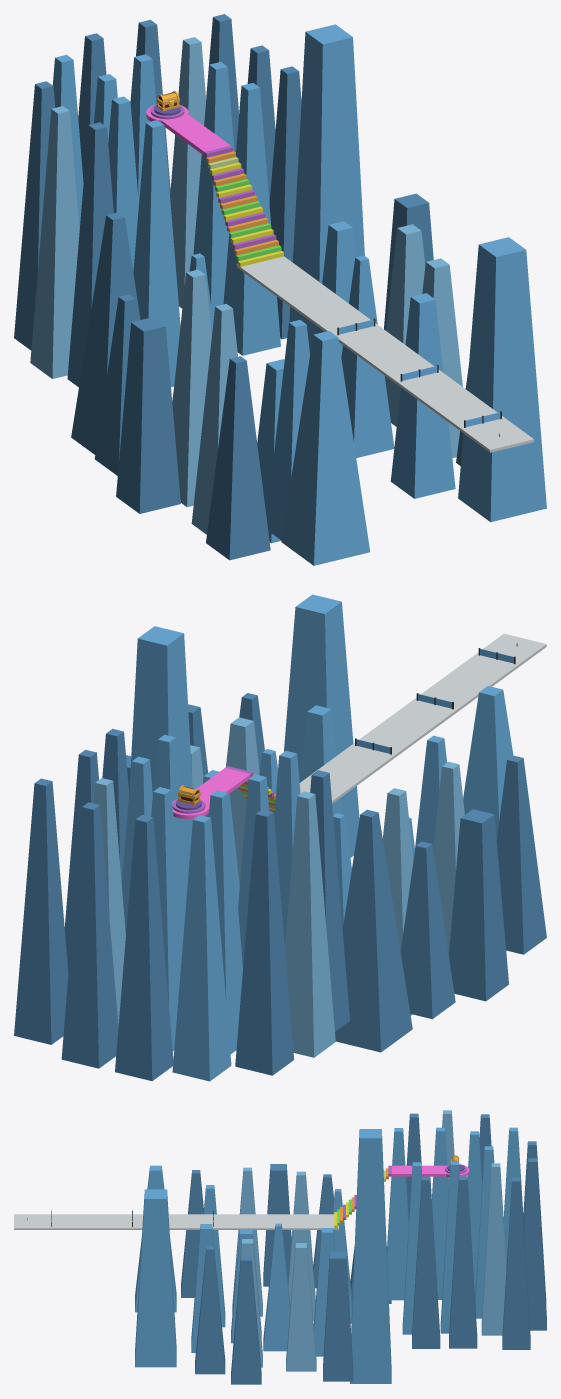
Rendered from stick_man_level_1_ve_2_renkli.fbx.
3 views of the same model, one above another, from view 1: azimuth 30°, elevation 25°; view 2: azimuth 150°, elevation 25°; view 3: azimuth 270°, elevation 25° (orthographic). The views are drawn at different scales.
Parts seen in each view (by area): view 1: Cube.058, Cube.048, Cube.050, Cube.056, Cube, Cube.027, Cube.028, Cube.031; view 2: Cube.048, Cube.058, Cube.050, Cube.056, Cube, Cube.031, Cube.049; view 3: Cube.058, Cube.048, Cube.050, Cube.056, Cube, Cube.049, Cube.031.
Boxes of the visible parts, left/top/right/bottom form: Cube.058: left=52, top=24, right=455, bottom=565; Cube.048: left=14, top=14, right=468, bottom=560; Cube.050: left=30, top=37, right=462, bottom=534; Cube.056: left=458, top=237, right=546, bottom=522; Cube: left=236, top=256, right=533, bottom=452; Cube.027: left=209, top=162, right=283, bottom=266; Cube.028: left=208, top=157, right=281, bottom=261; Cube.031: left=161, top=114, right=230, bottom=155; Cube.048: left=14, top=693, right=546, bottom=1081; Cube.058: left=121, top=626, right=513, bottom=1081; Cube.050: left=93, top=717, right=464, bottom=1057; Cube.056: left=284, top=594, right=359, bottom=857; Cube: left=299, top=633, right=546, bottom=803; Cube.031: left=197, top=768, right=250, bottom=805; Cube.049: left=188, top=704, right=208, bottom=777; Cube.058: left=135, top=1127, right=523, bottom=1383; Cube.048: left=181, top=1113, right=546, bottom=1381; Cube.050: left=232, top=1110, right=506, bottom=1371; Cube.056: left=135, top=1189, right=176, bottom=1367; Cube: left=14, top=1214, right=338, bottom=1229; Cube.049: left=231, top=1256, right=261, bottom=1384; Cube.031: left=391, top=1165, right=446, bottom=1176.
Size of what is drawn, in the model's own units: 6586 by 6773 by 13131.
